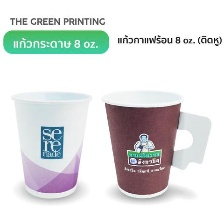paper_cup: (97, 84, 214, 203), (8, 87, 95, 202)
